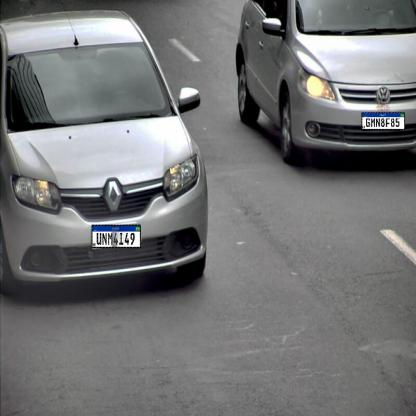PlacaM: (91, 225, 141, 248), (361, 112, 405, 130)
